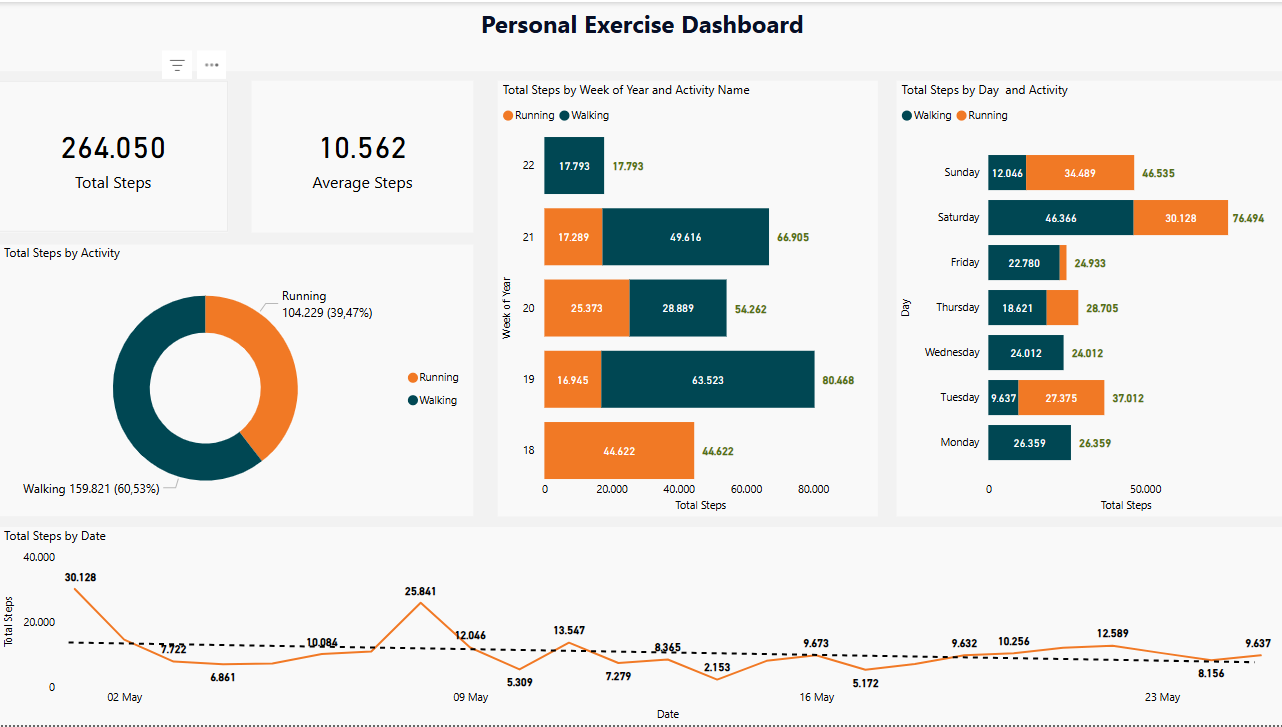

This screenshot's page, from the dashboard's own definition file:
{"tool":"powerbi","page":{"name":"Dashboard","canvas":[1280,720],"ordinal":0},"visuals":[{"type":"textbox","box":[0,0,1280.3,68.6],"z":0},{"type":"card","fields":{"Values":["Basic Calculations.Total Steps"]},"box":[0,78.2,227.8,150.9],"z":1000},{"type":"card","fields":{"Values":["Basic Calculations.Average Steps"]},"box":[251.1,78.2,220.9,150.9],"z":2000},{"type":"donutChart","fields":{"Y":["Basic Calculations.Total Steps"],"Series":["DIM_Activity.ActivityName"]},"box":[0,241.5,472,270.3],"z":3000},{"type":"lineChart","fields":{"Y":["Basic Calculations.Total Steps"],"Category":["DIM_Date.Date"]},"box":[0,522.8,1278.9,197.6],"z":4000},{"type":"barChart","fields":{"Category":["DIM_Date.Week of Year"],"Y":["Basic Calculations.Total Steps"],"Series":["DIM_Activity.ActivityName"]},"box":[496.7,78.2,378.7,433.6],"z":5000},{"type":"barChart","fields":{"Y":["Basic Calculations.Total Steps"],"Series":["DIM_Activity.ActivityName"],"Category":["DIM_Date.Day Name"]},"box":[893.3,78.2,387,433.6],"z":6000}]}

Visuals, with their boxes in screenshot pixels (x1, y1, x2, y2), scaled from the page's 1280x720 canvas onto the 1282x727 screenshot:
textbox: [x1=0, y1=0, x2=1281, y2=69]
card - Basic Calculations.Total Steps: [x1=0, y1=79, x2=228, y2=231]
card - Basic Calculations.Average Steps: [x1=251, y1=79, x2=473, y2=231]
donutChart - Basic Calculations.Total Steps x DIM_Activity.ActivityName: [x1=0, y1=244, x2=473, y2=517]
lineChart - Basic Calculations.Total Steps x DIM_Date.Date: [x1=0, y1=528, x2=1281, y2=726]
barChart - DIM_Date.Week of Year x Basic Calculations.Total Steps: [x1=497, y1=79, x2=877, y2=517]
barChart - Basic Calculations.Total Steps x DIM_Activity.ActivityName: [x1=895, y1=79, x2=1281, y2=517]
